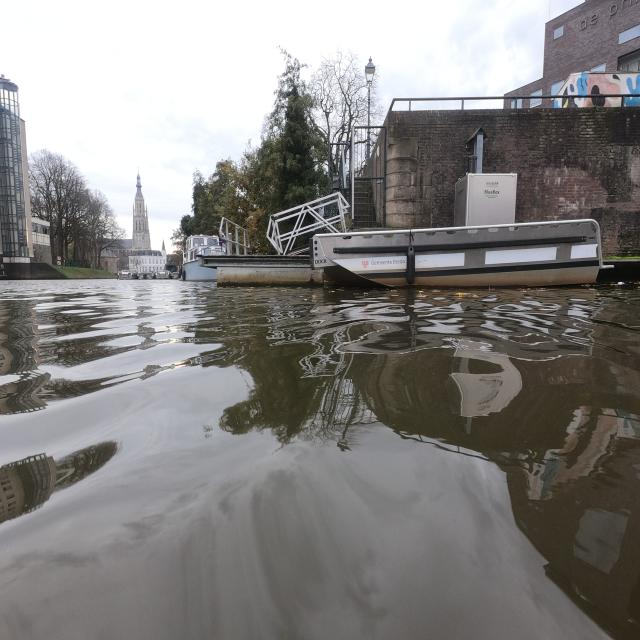boat: (315, 219, 602, 286)
dock: (198, 255, 321, 290), (604, 253, 640, 283)
tree: (180, 53, 381, 256)
water: (0, 279, 640, 640)
